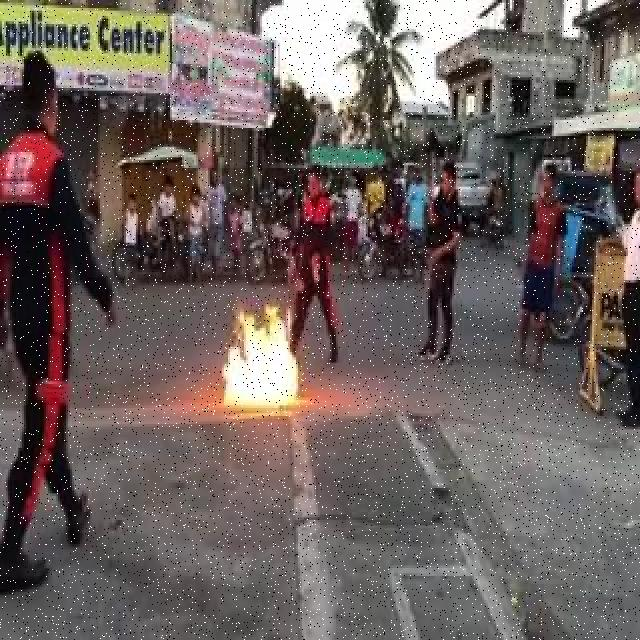fire: (223, 310, 309, 408)
